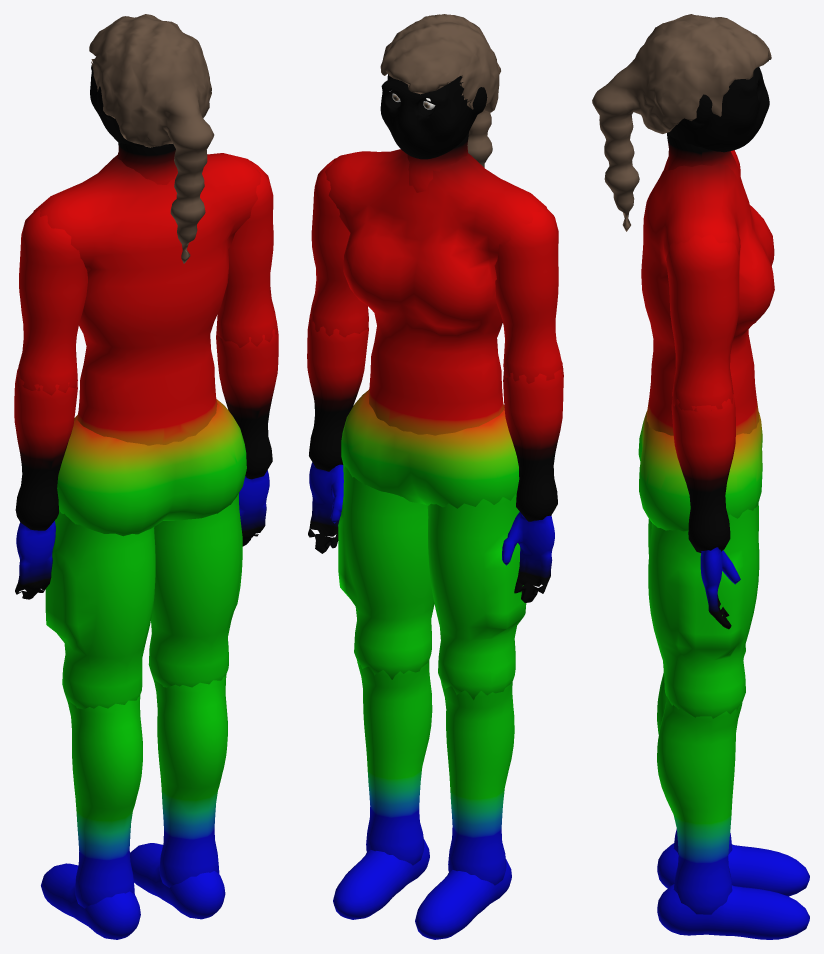
Rendered from avatar_female.glb.
3 renders of one model, left to right at view 1: azimuth 30°, elevation 25°; view 2: azimuth 150°, elevation 25°; view 3: azimuth 270°, elevation 25°, orthographic. The views are drawn at different scales.
Parts seen in each view (by area): view 1: Spine, Thigh_L, Hips, Hair, Thigh_R, Shin_L, Shin_R, UpperArm_L, Forearm_L, UpperArm_R, Forearm_R, Foot_L (+5 smaller); view 2: Spine, Thigh_L, Thigh_R, Hips, Shin_R, Shin_L, UpperArm_L, Hair, Forearm_L, Forearm_R, Head, UpperArm_R (+5 smaller); view 3: Spine, Thigh_R, Hair, Shin_R, UpperArm_R, Forearm_R, Hips, Foot_R, Head, Foot_L, Hand_R, Neck (+1 smaller).
Boxes of the visible parts, left/top/right/bottom form: Spine: left=32, top=153, right=261, bottom=445; Thigh_L: left=45, top=509, right=155, bottom=709; Hips: left=57, top=399, right=246, bottom=536; Hair: left=89, top=14, right=214, bottom=263; Thigh_R: left=148, top=493, right=242, bottom=687; Shin_L: left=67, top=695, right=142, bottom=908; Shin_R: left=154, top=674, right=227, bottom=887; UpperArm_L: left=16, top=208, right=87, bottom=395; Forearm_L: left=14, top=369, right=77, bottom=530; UpperArm_R: left=216, top=161, right=277, bottom=347; Forearm_R: left=216, top=321, right=278, bottom=479; Foot_L: left=41, top=863, right=140, bottom=939; Spine: left=325, top=149, right=547, bottom=435; Thigh_L: left=427, top=493, right=526, bottom=700; Thigh_R: left=338, top=465, right=434, bottom=679; Hips: left=341, top=390, right=519, bottom=508; Shin_R: left=357, top=660, right=432, bottom=865; Shin_L: left=441, top=682, right=514, bottom=885; UpperArm_L: left=494, top=206, right=563, bottom=383; Hair: left=380, top=14, right=500, bottom=167; Forearm_L: left=503, top=361, right=563, bottom=521; Forearm_R: left=307, top=315, right=368, bottom=471; Head: left=380, top=74, right=487, bottom=159; UpperArm_R: left=309, top=158, right=368, bottom=337; Spine: left=641, top=150, right=774, bottom=435; Thigh_R: left=648, top=505, right=759, bottom=718; Hair: left=592, top=14, right=771, bottom=231; Shin_R: left=657, top=696, right=742, bottom=914; UpperArm_R: left=666, top=234, right=739, bottom=411; Forearm_R: left=671, top=393, right=735, bottom=552; Hips: left=638, top=411, right=762, bottom=531; Foot_R: left=657, top=884, right=809, bottom=939; Head: left=668, top=67, right=769, bottom=152; Foot_L: left=657, top=843, right=809, bottom=896; Hand_R: left=700, top=547, right=740, bottom=629; Neck: left=666, top=132, right=740, bottom=180.
Bounding box in the file's own units: 0.5071 × 1.71 × 0.3768.
